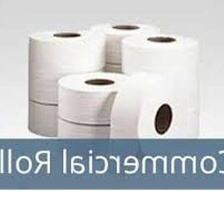tissue: (107, 68, 199, 138), (24, 27, 105, 106), (55, 71, 135, 128), (119, 31, 197, 79), (85, 20, 163, 65), (24, 97, 63, 138)
